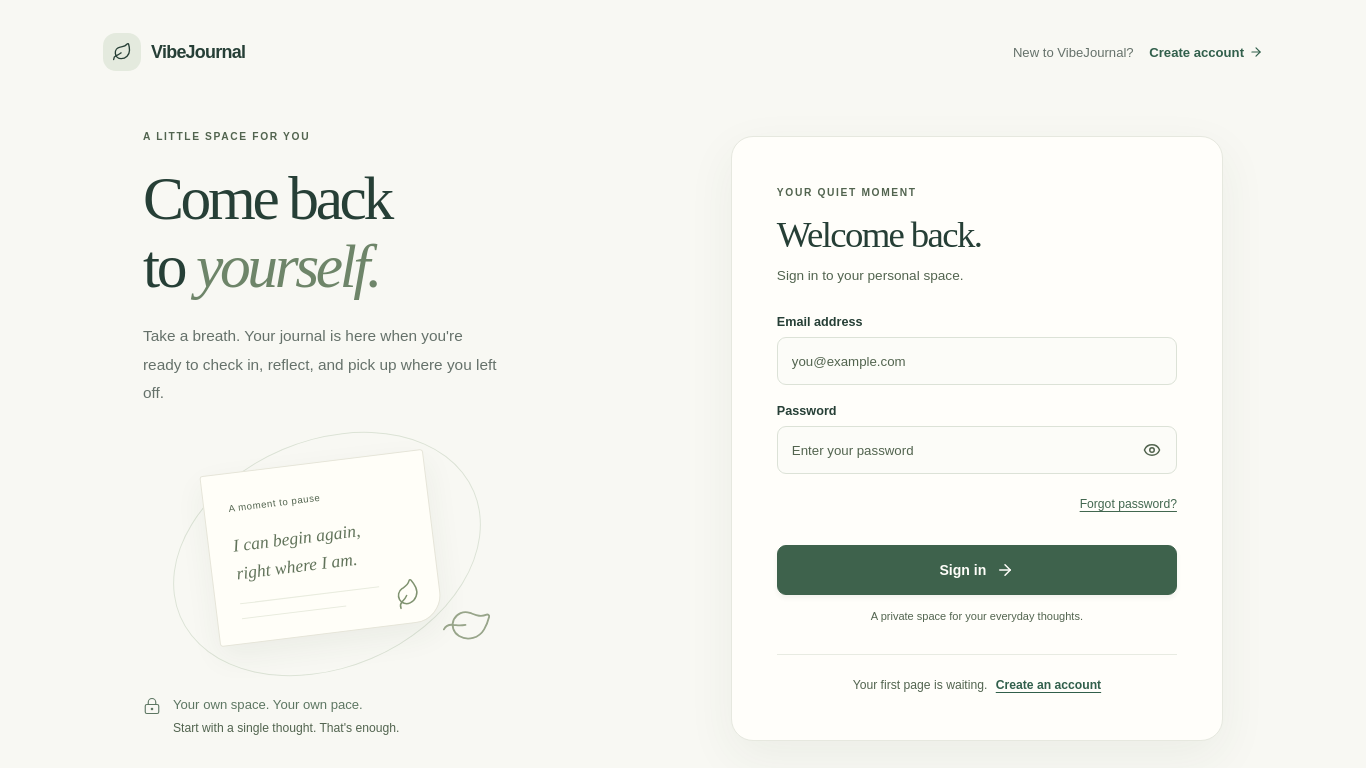
sign-in form › offers a readable error after a connection failure
Type "someone@example.invalid" into the field labelled "Email address".
click(977, 360); type("someone@example.invalid")  # box left=777, top=336, right=1177, bottom=384
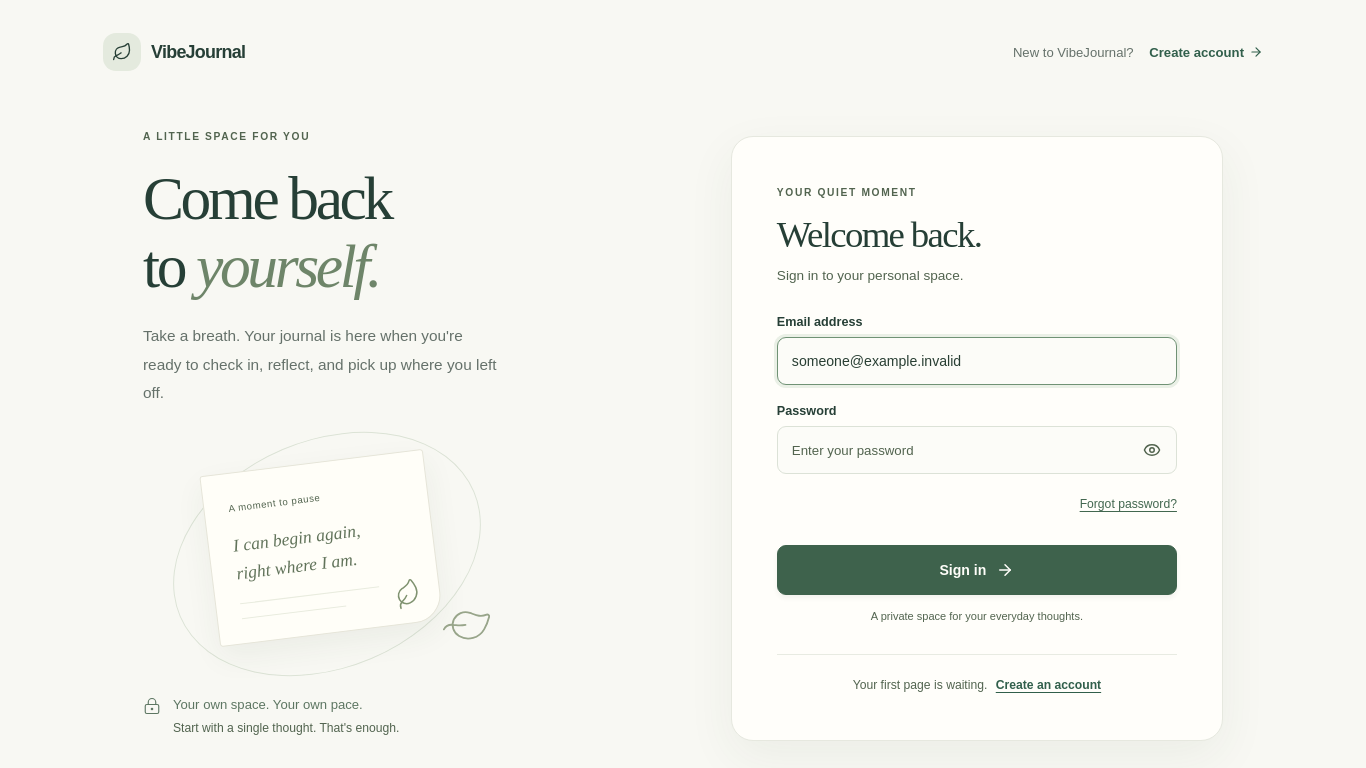
Type "Password123!" into the password field labelled "Password".
click(977, 450); type("Password123!")  # box left=777, top=426, right=1177, bottom=474
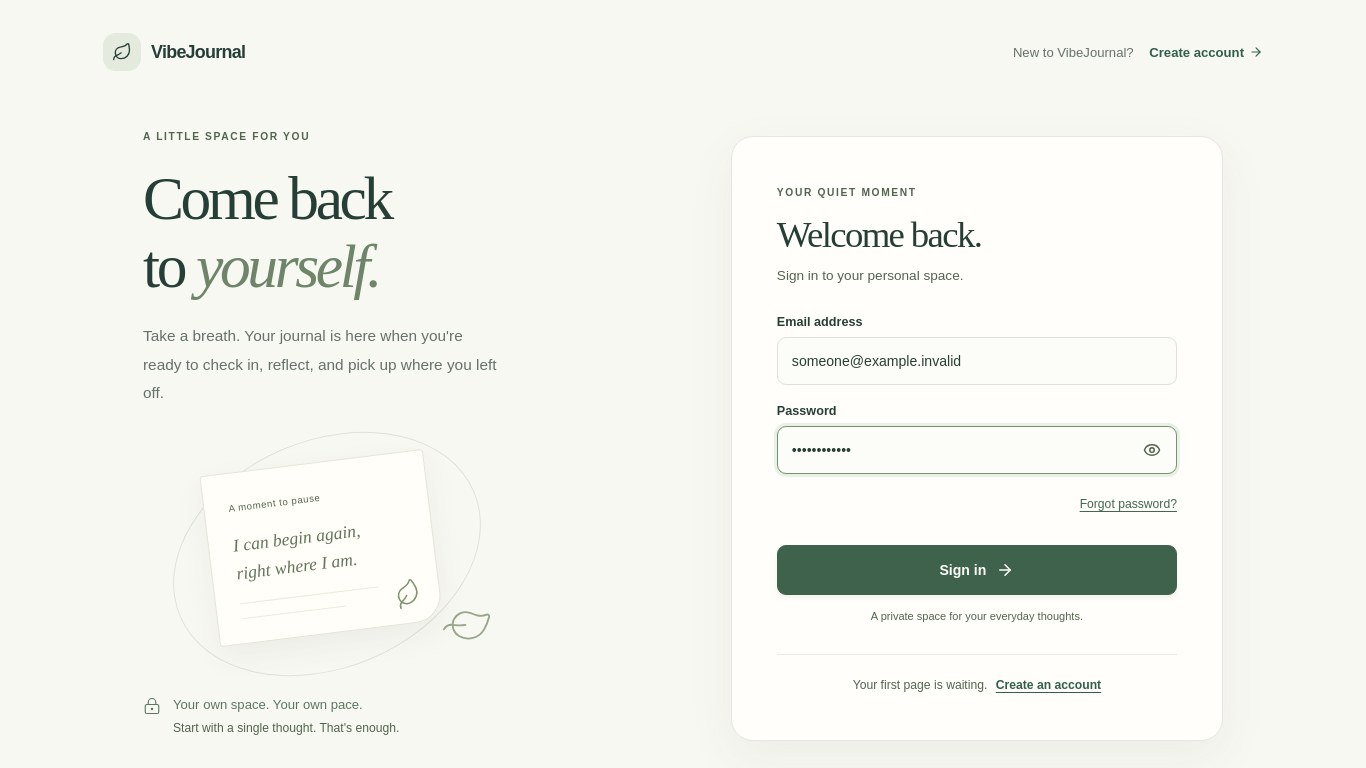
Click the button "Sign in".
click(977, 570)  # box left=777, top=544, right=1177, bottom=594
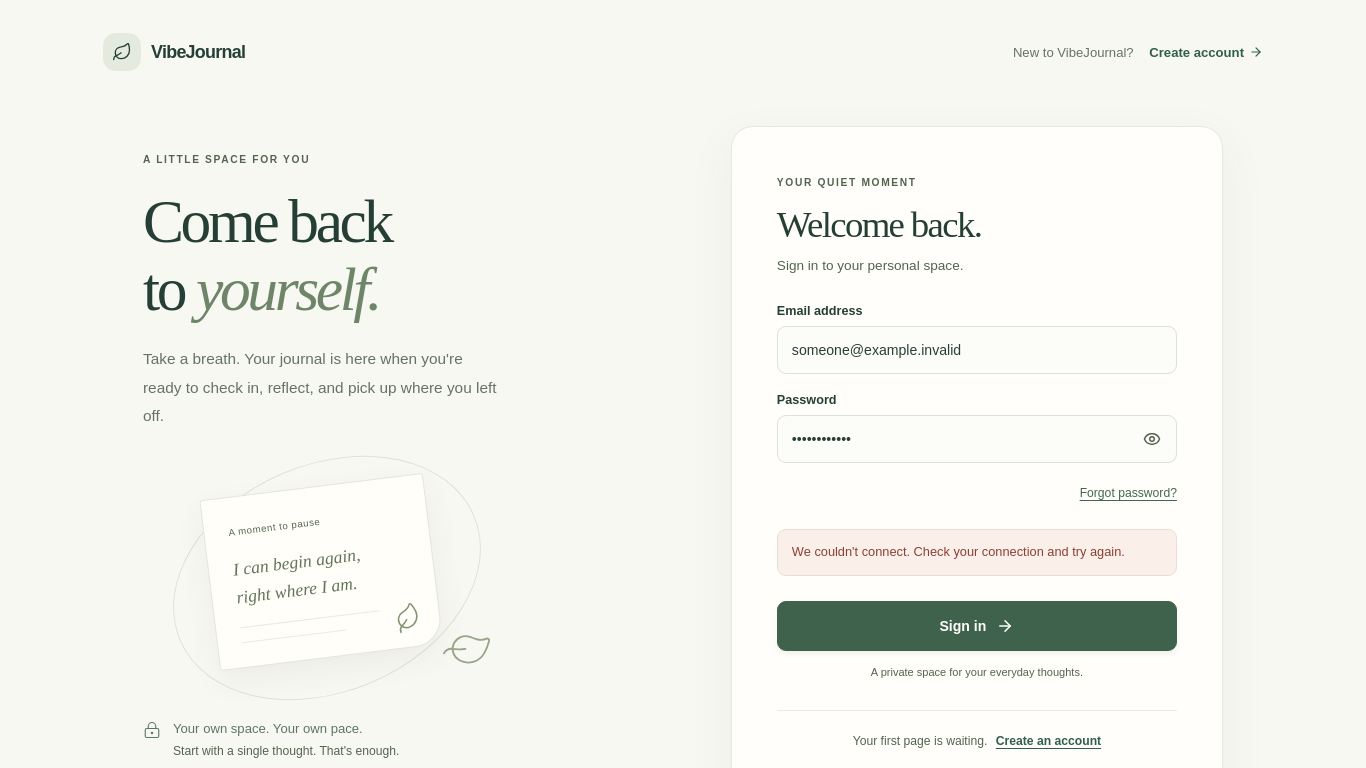
Result: the message "We couldn't connect. Check your connection and try again." is shown at left=777, top=530, right=1177, bottom=576
